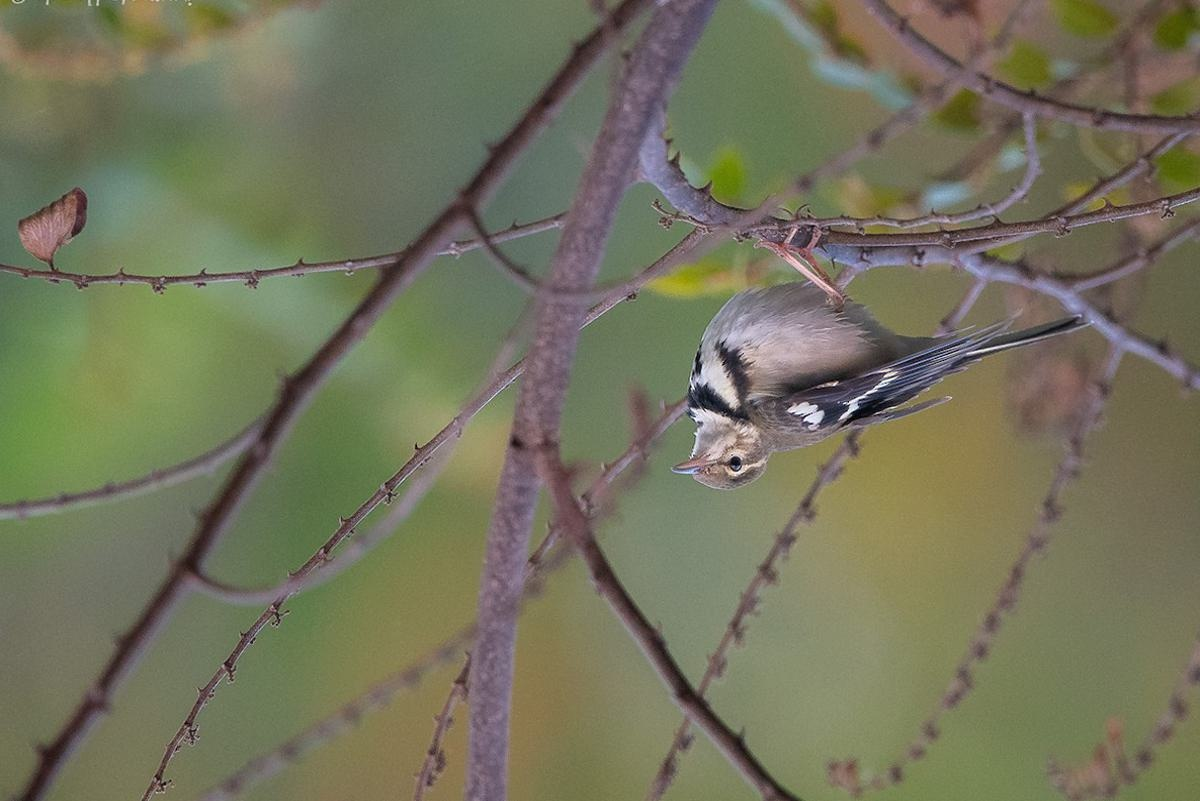wagtail: (671, 242, 1030, 498)
